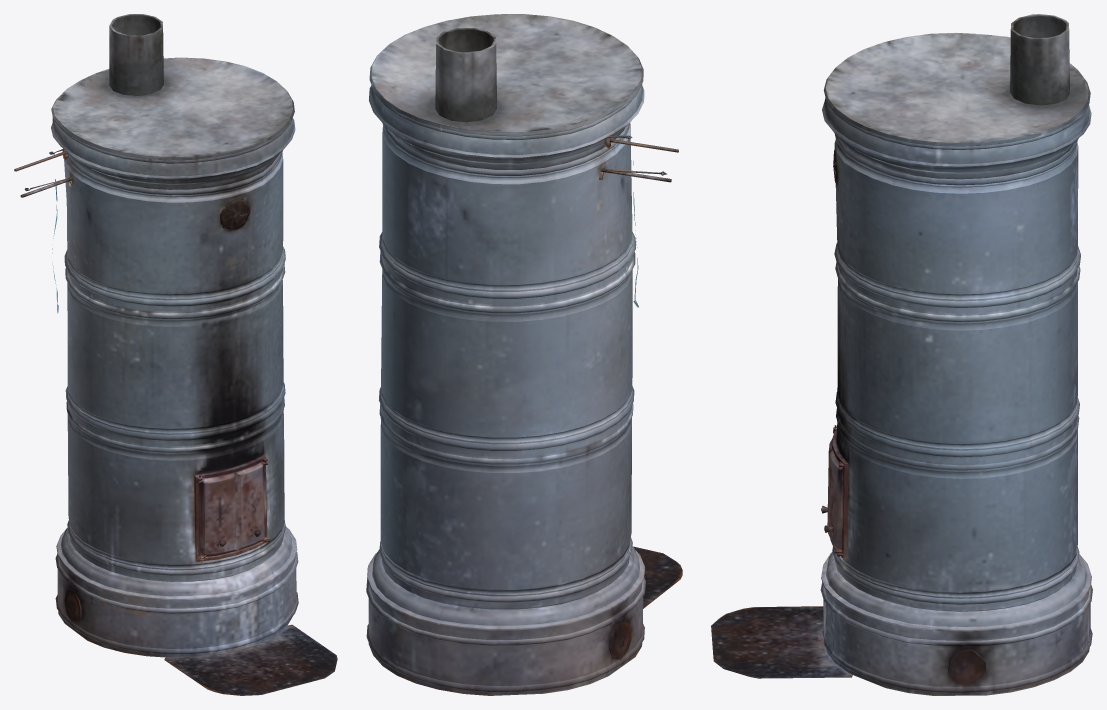
File: scandinavian_masonry_heater.6d1d0da653.glb
3 views of the same model, side by side, from view 1: azimuth 30°, elevation 25°; view 2: azimuth 150°, elevation 25°; view 3: azimuth 270°, elevation 25° (orthographic). The views are drawn at different scales.
Parts seen in each view (by area): view 1: scandinavian_masonry_heater; view 2: scandinavian_masonry_heater; view 3: scandinavian_masonry_heater.
Part boxes in pixels (left/top/right/bottom): scandinavian_masonry_heater: left=14, top=14, right=337, bottom=695; scandinavian_masonry_heater: left=366, top=14, right=682, bottom=695; scandinavian_masonry_heater: left=711, top=14, right=1092, bottom=695.
Size of the model in its own units: 1.17 by 2.36 by 1.33.
Materials: 1 (1 with a texture image).
